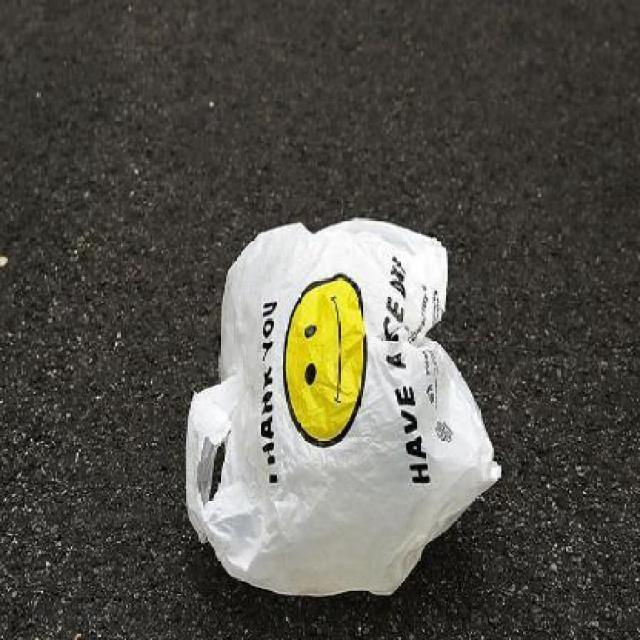plastic bag: (175, 211, 506, 594)
